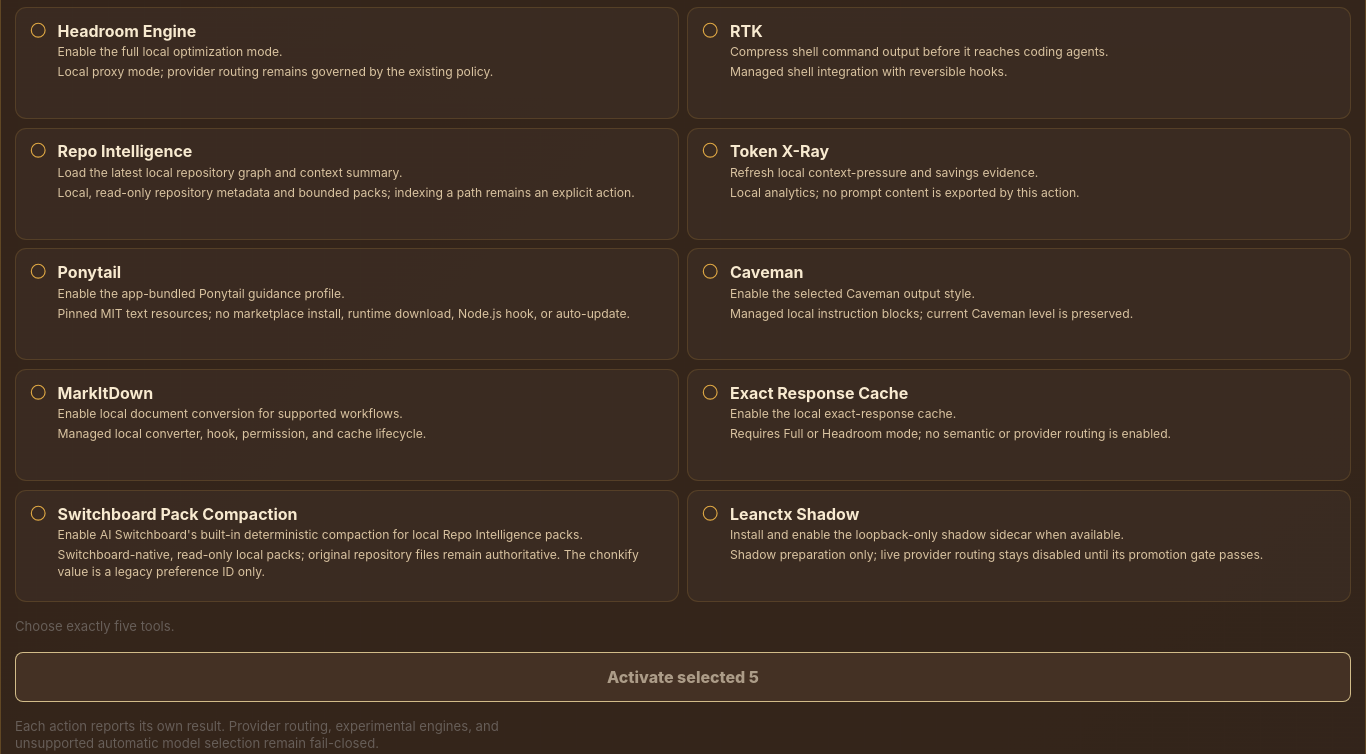
Test: SelectiveActivationCard › caps selection at five and persists the chosen ids
(page scrolled)
Expected: the button "Activate selected 5" is shown, [15,652,1351,702]
Click the button that starts with "Headroom Engine" at (347, 63), box [15,7,679,119]
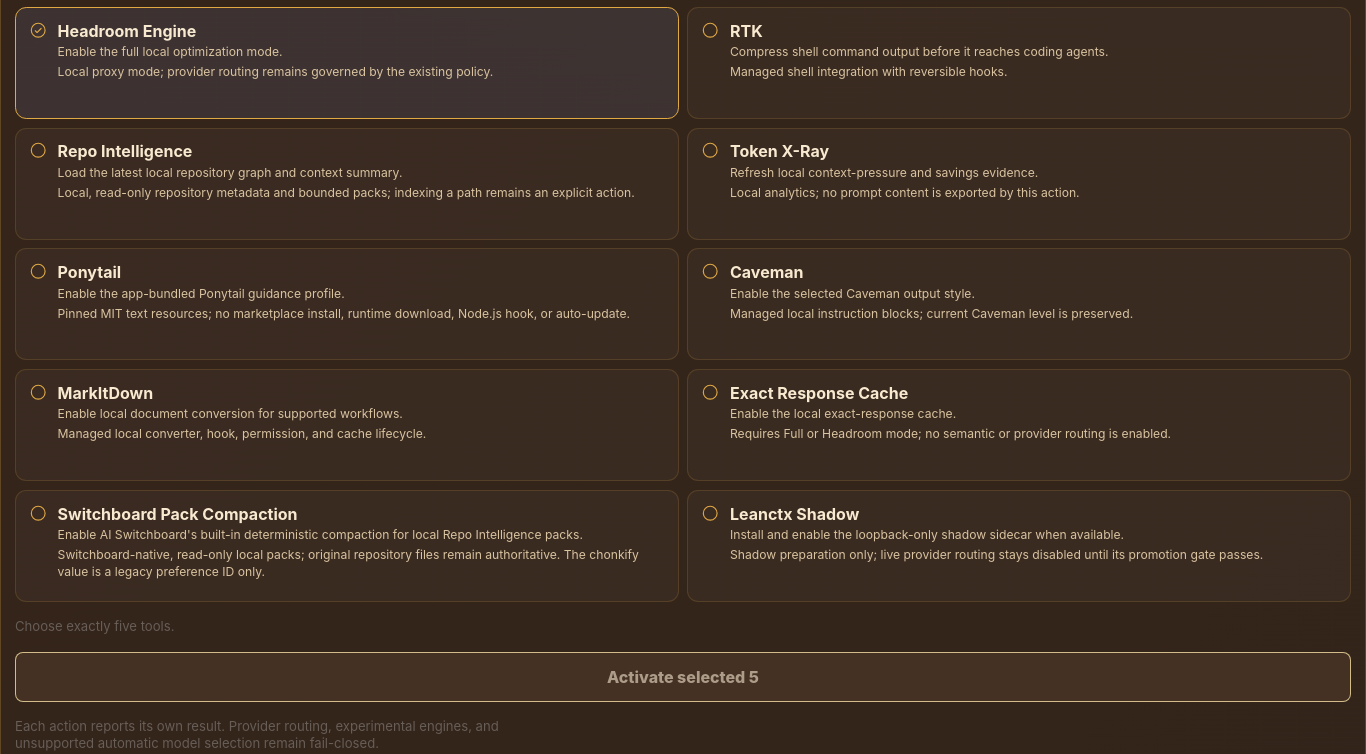
Click the button that starts with "RTK" at (746, 31), box [687,7,1351,119]
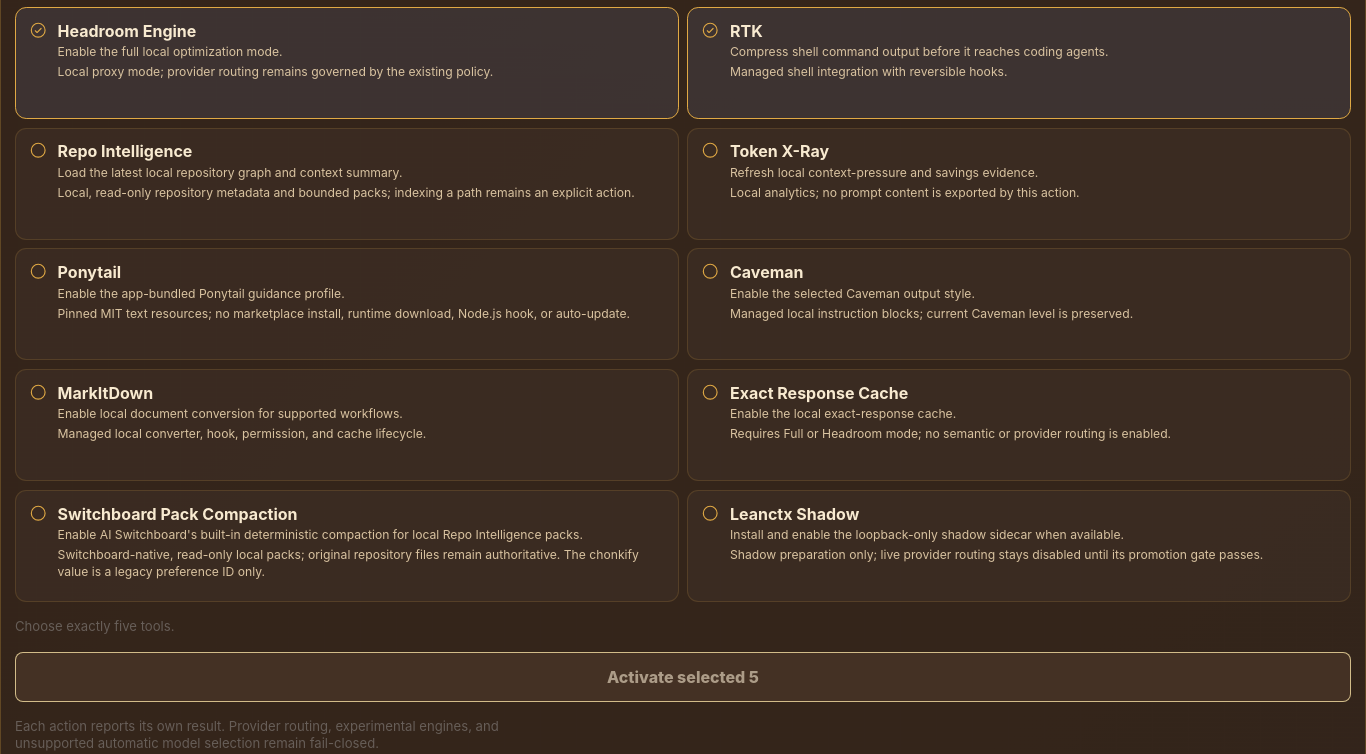
Click the button that starts with "Repo Intelligence" at (347, 184), box [15,128,679,240]
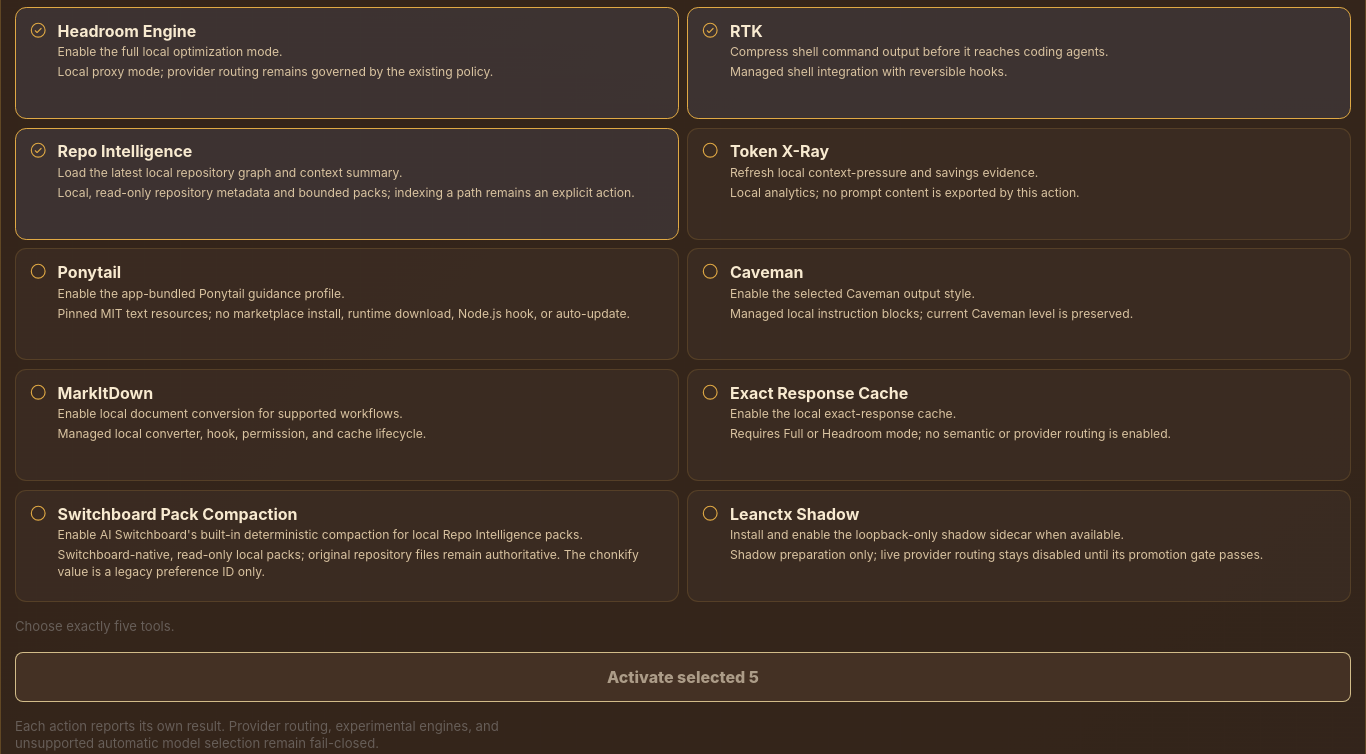
Click the button that starts with "Token X-Ray" at (1019, 184), box [687,128,1351,240]
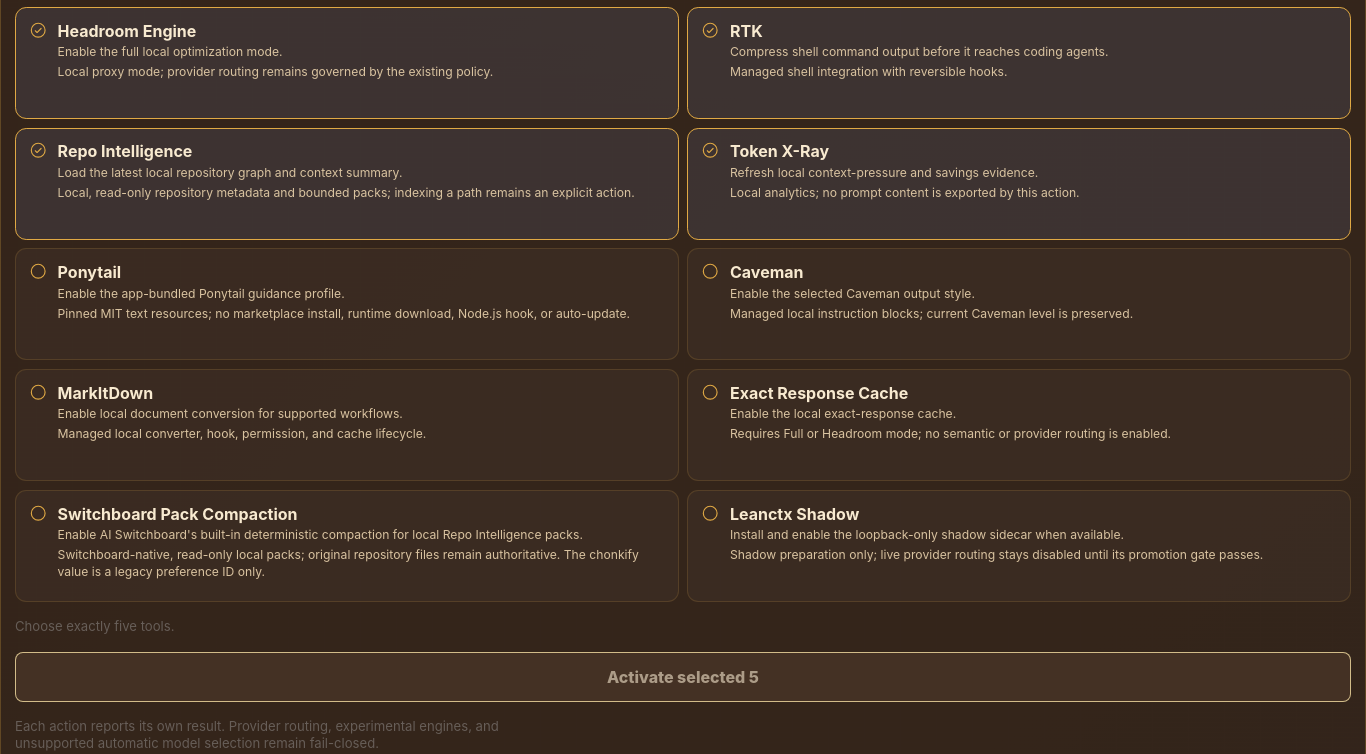
Click the button that starts with "Ponytail" at (347, 304), box [15,248,679,360]
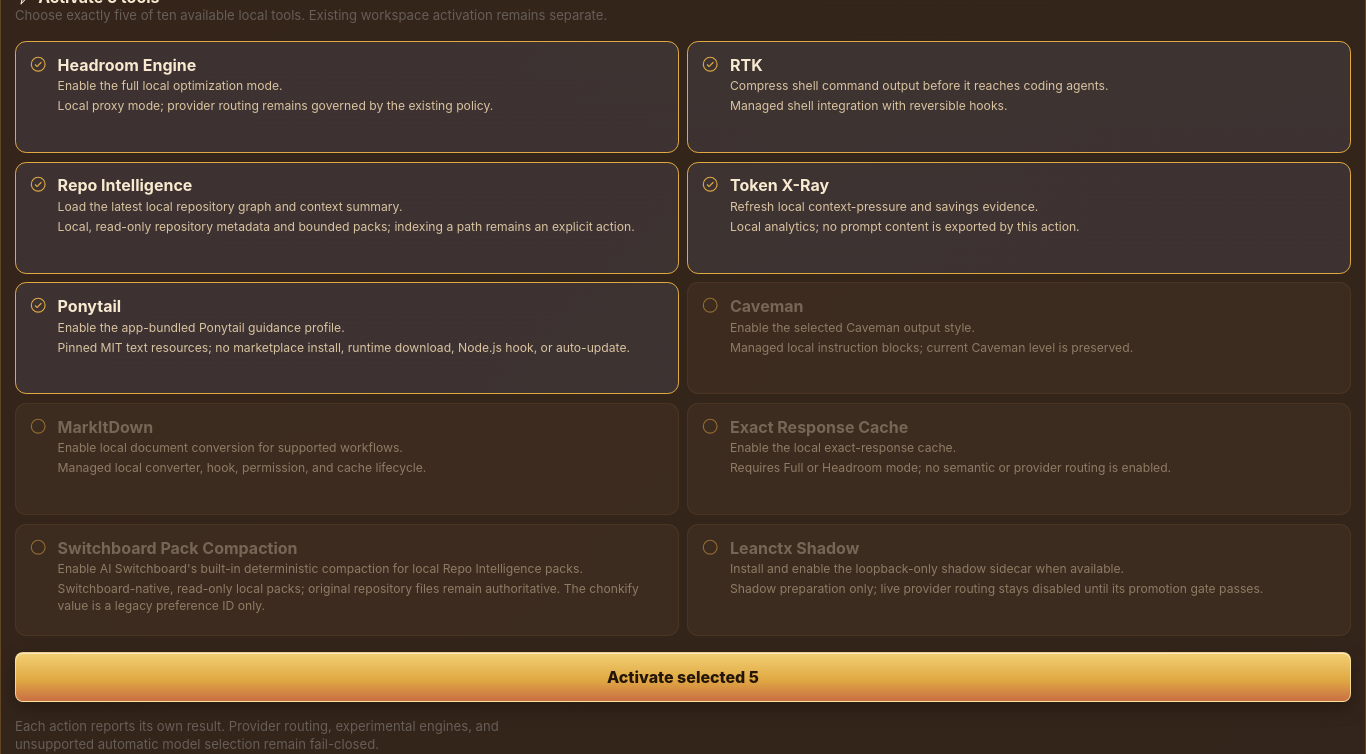
Click the button that starts with "Caveman" at (1019, 338), box [687,282,1351,394]
(page scrolled)
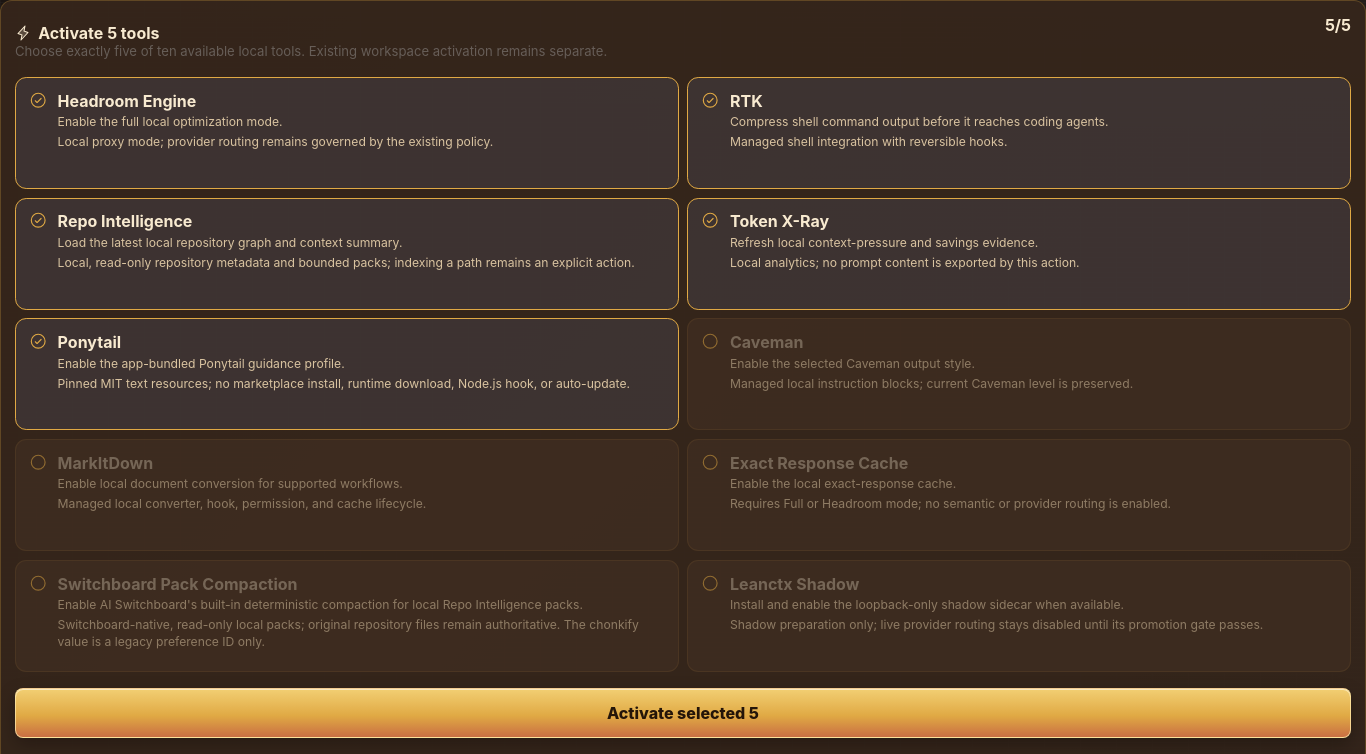
Expected: the text "5/5" is shown, [1325,15,1351,35]
